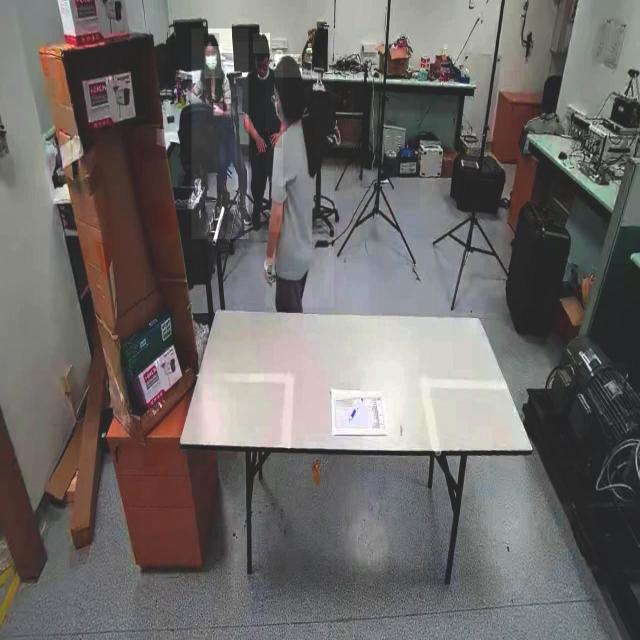face_mask: (204, 46, 222, 79)
hand_noglove: (256, 132, 268, 154), (270, 130, 282, 148), (213, 103, 223, 117)
head_nohelmet: (274, 54, 302, 78), (252, 33, 270, 54), (203, 33, 220, 47)
person: (265, 57, 334, 308), (191, 28, 249, 240), (234, 42, 283, 232)
